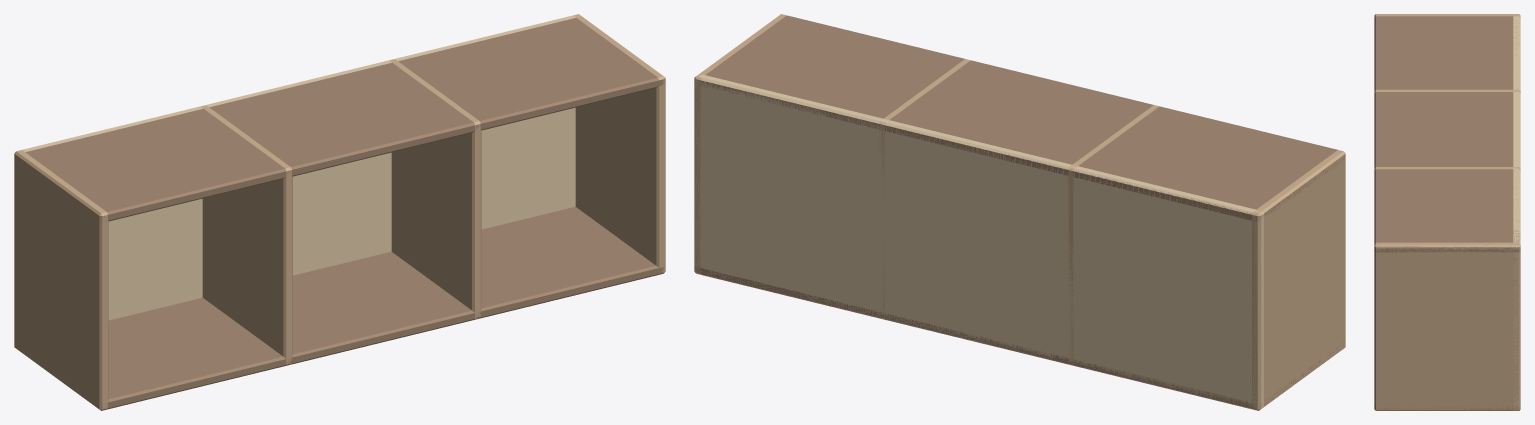
3 views of the same model, side by side, from view 1: azimuth 30°, elevation 25°; view 2: azimuth 150°, elevation 25°; view 3: azimuth 270°, elevation 25° (orthographic). The views are drawn at different scales.
Visible parts, largest first — view 1: SpaceSaver_WallSys_Cube_3x1; view 2: SpaceSaver_WallSys_Cube_3x1; view 3: SpaceSaver_WallSys_Cube_3x1.
Part boxes in pixels (left/top/right/bottom): SpaceSaver_WallSys_Cube_3x1: left=14, top=14, right=665, bottom=410; SpaceSaver_WallSys_Cube_3x1: left=694, top=14, right=1345, bottom=410; SpaceSaver_WallSys_Cube_3x1: left=1374, top=14, right=1520, bottom=410.
Size of the model in its own units: 1.2 by 0.4 by 0.32.
